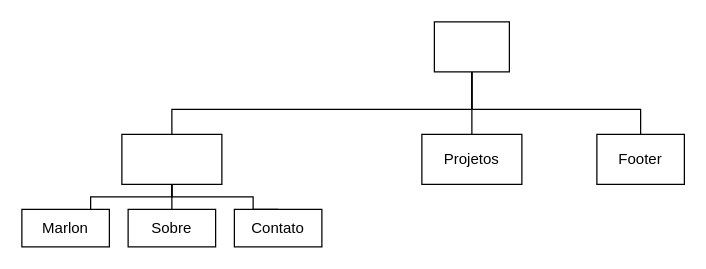
Image size: 706x269. Some labels were removed from this diagram. Here are the shapes that lost their labels. From the top down, the centre of each, then its label:
At (471,46): "Dev".
At (171,158): "Home".
